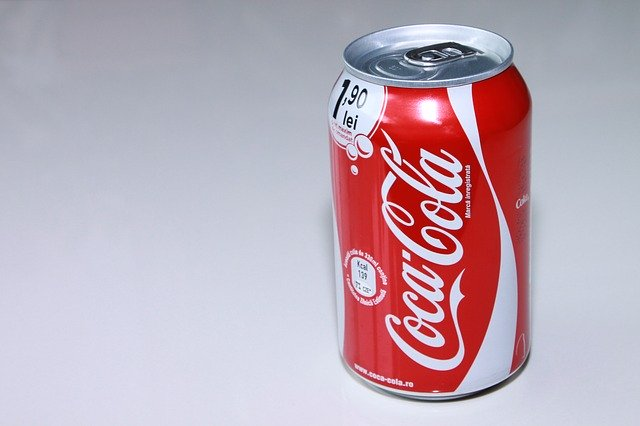can: (320, 14, 548, 406)
